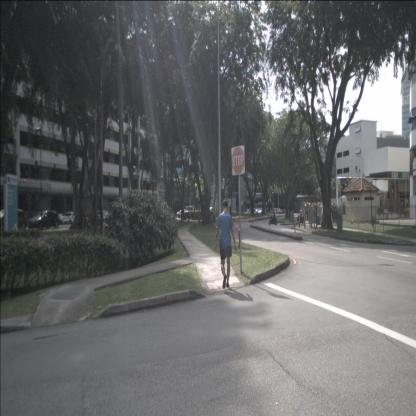human-pedestrian-adult: (214, 199, 236, 289)
vehicle-car: (29, 210, 60, 230), (0, 209, 28, 231), (52, 213, 69, 225), (95, 210, 109, 222), (63, 212, 76, 224), (184, 205, 196, 217), (177, 209, 189, 219), (244, 208, 252, 216), (258, 209, 266, 216), (255, 208, 260, 216)
vehicle-motorcycle: (268, 211, 278, 226), (295, 211, 304, 226)
